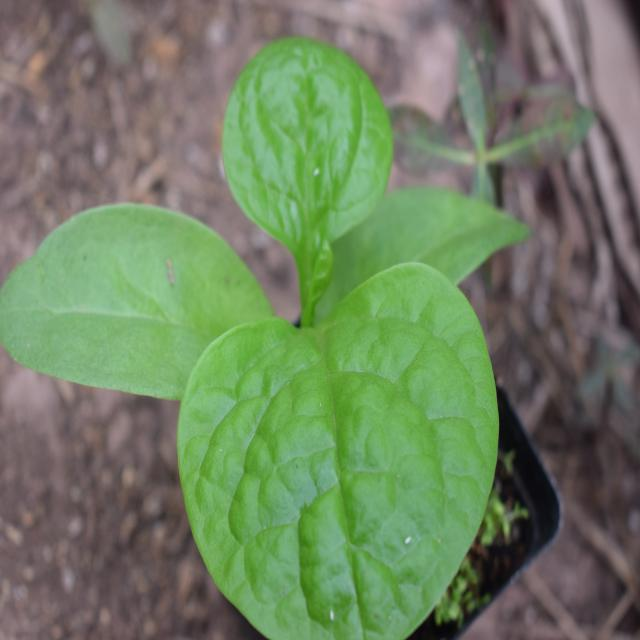Ceylon spinach: (18, 71, 517, 622)
